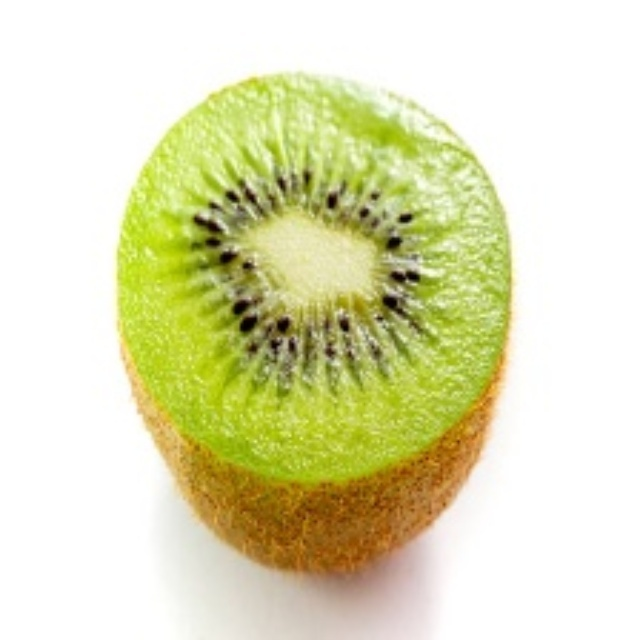kiwi: (123, 66, 533, 578)
